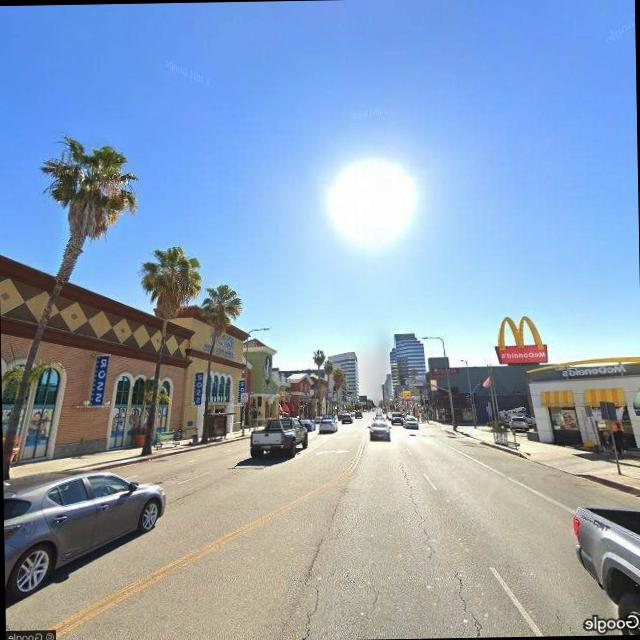pothole: (290, 530, 332, 640), (398, 458, 437, 561), (450, 564, 488, 637)
